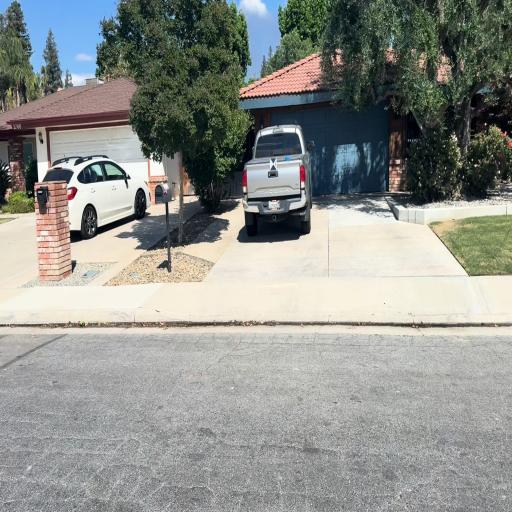target1: (270, 158, 277, 170)
